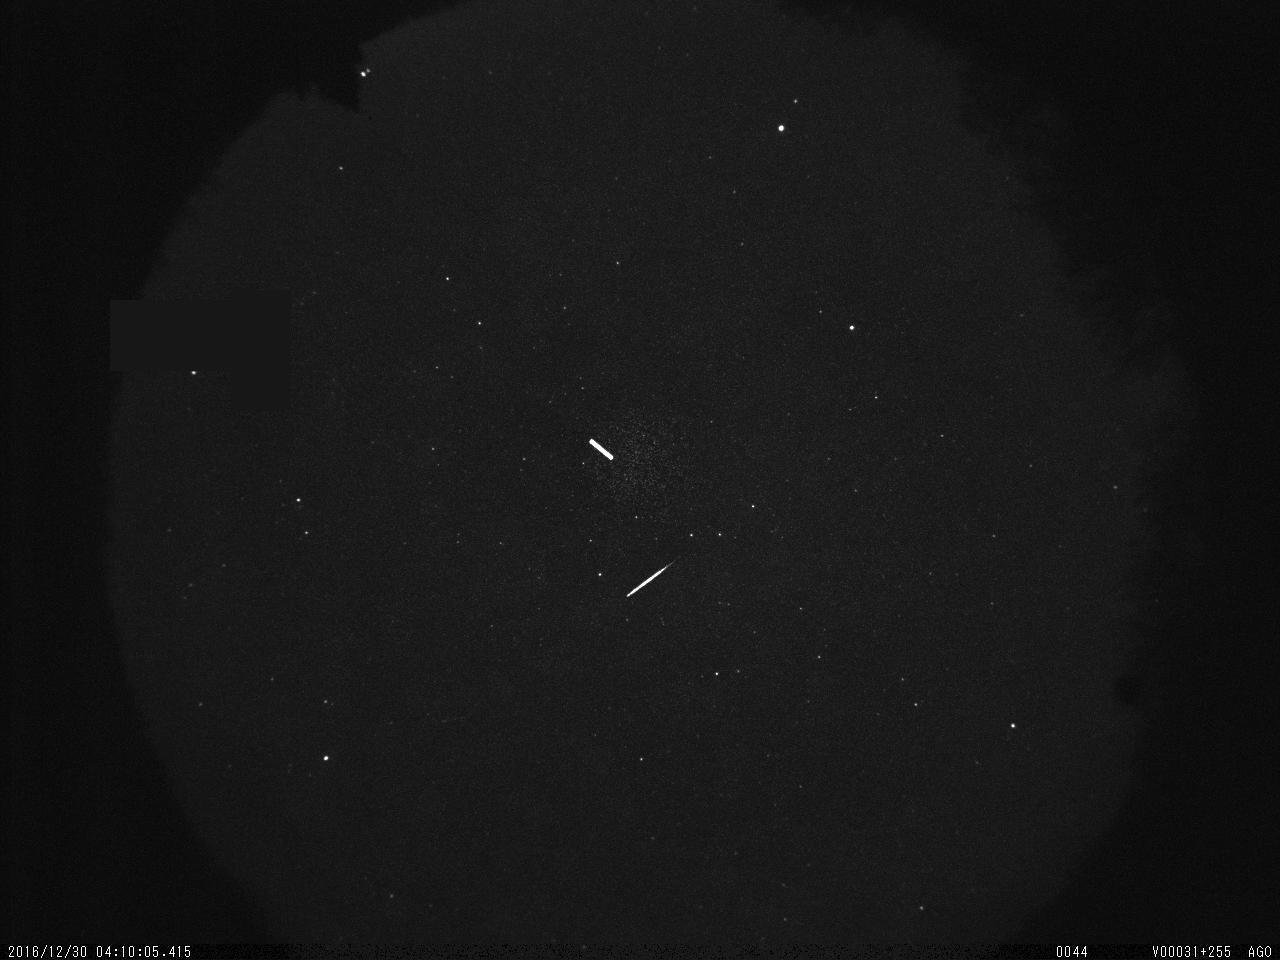meteor: (619, 547, 696, 606)
satelite: (584, 433, 624, 466)
